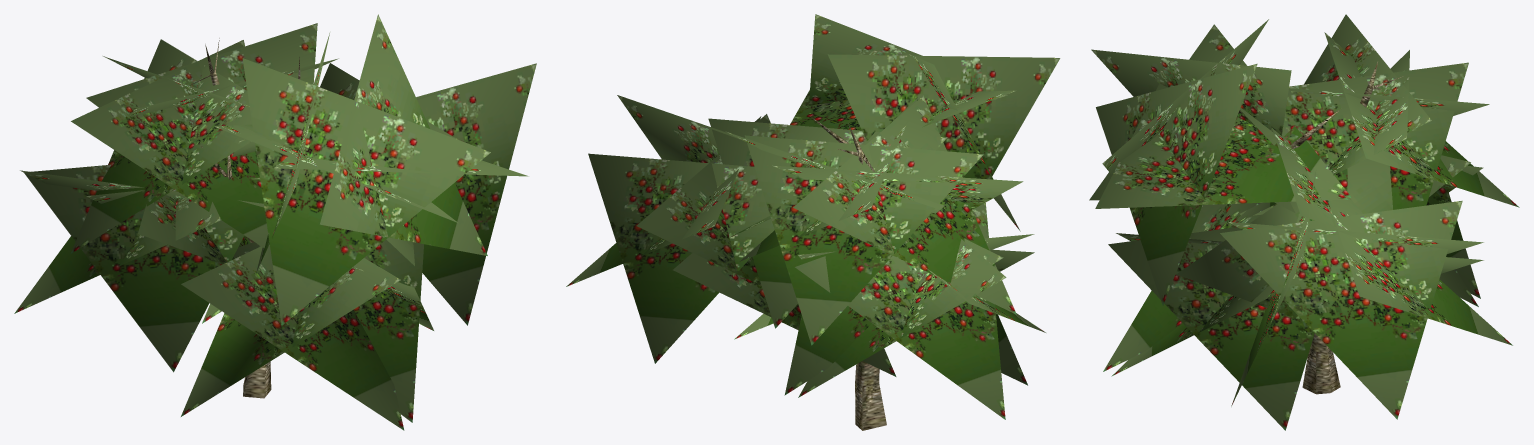
File: apple-fruit-3.glb
3 views of the same model, side by side, from view 1: azimuth 30°, elevation 25°; view 2: azimuth 150°, elevation 25°; view 3: azimuth 270°, elevation 25° (orthographic). The views are drawn at different scales.
Parts seen in each view (by area): view 1: apple-fruit-3; view 2: apple-fruit-3; view 3: apple-fruit-3.
Boxes of the visible parts, left/top/right/bottom form: apple-fruit-3: left=14, top=14, right=536, bottom=430; apple-fruit-3: left=566, top=14, right=1060, bottom=430; apple-fruit-3: left=1089, top=14, right=1519, bottom=430.
Size of the model in its own units: 8.56 by 6.62 by 7.05.
Materials: 2 (2 with a texture image).
